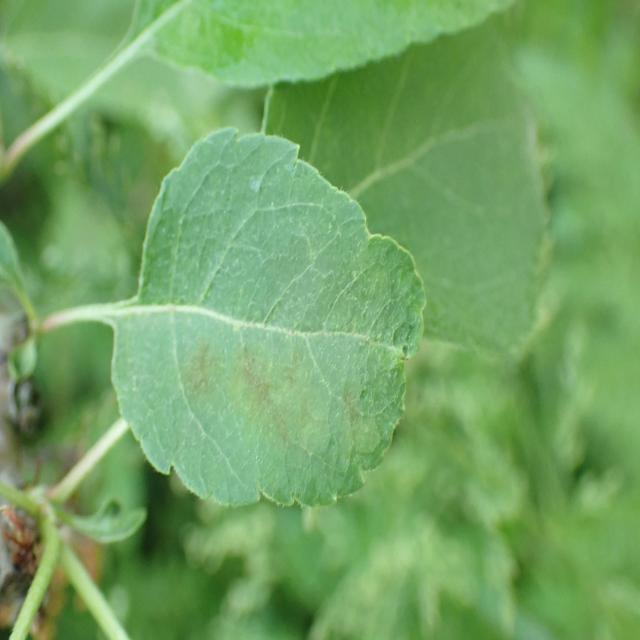scab: (149, 271, 432, 500)
